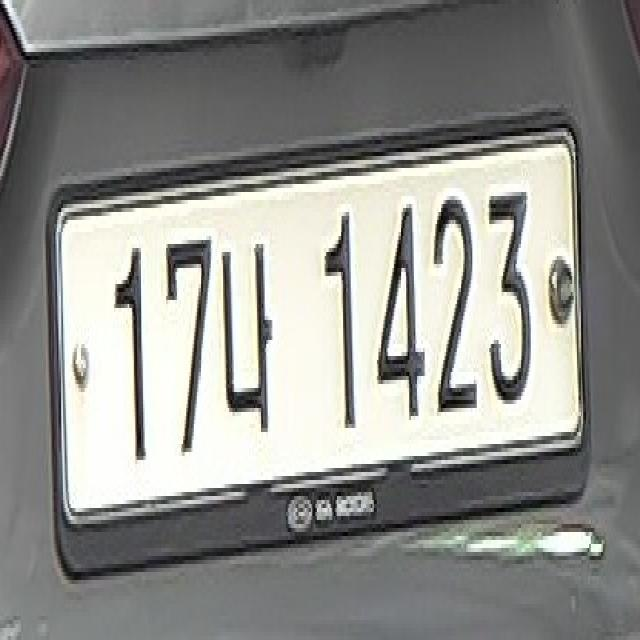1: (318, 196, 368, 440), (111, 224, 154, 480)
2: (432, 176, 478, 420)
3: (480, 172, 535, 416)
4: (369, 180, 429, 436)
7: (157, 216, 218, 468)
license_plate: (44, 100, 594, 596)
na: (218, 220, 284, 448)
